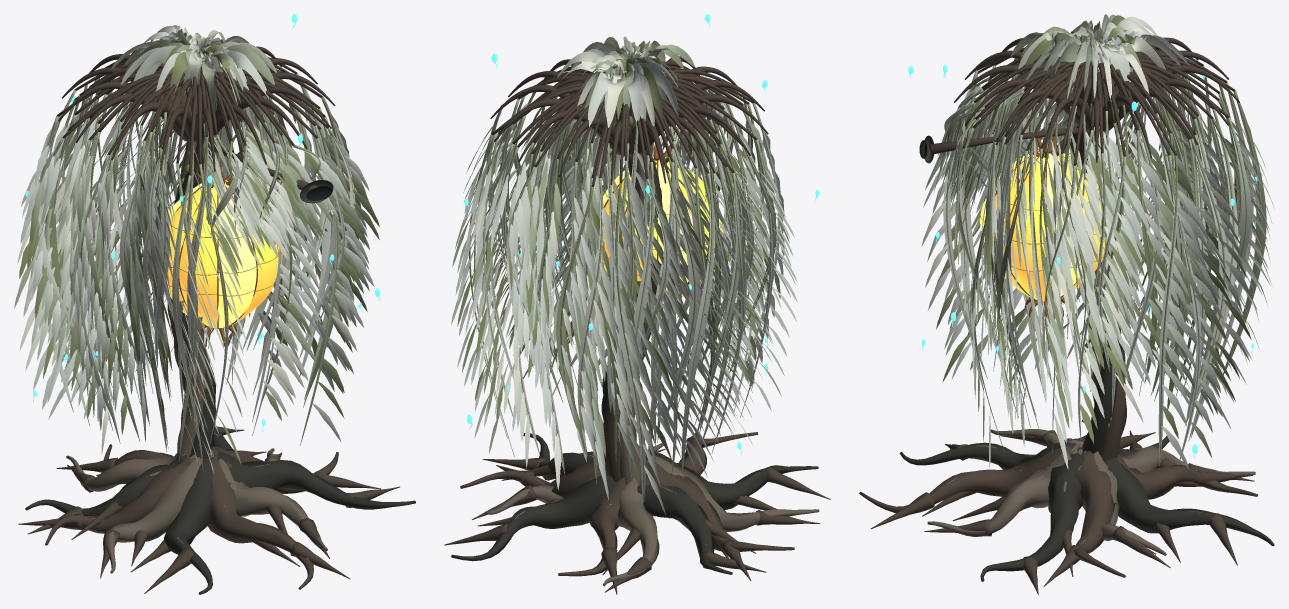
File: wispwillow.glb
3 views of the same model, side by side, from view 1: azimuth 30°, elevation 25°; view 2: azimuth 150°, elevation 25°; view 3: azimuth 270°, elevation 25° (orthographic). The views are drawn at different scales.
Visible parts, largest first — view 1: LEAFSET | Frond • pale silver, LEAFSET | Frond • shaded sage, LEAFSET | Frond • moon ivory, LEAFSET | Frond • old olive, LEAFSET | Frond • silver tips, STEM | Bark • peat umber, ROOT | Bark • peat umber, ROOT | Bark • deep fissures, ROOT | Bark • weathered ridges, BLOOM | Lantern • amber paper petals, BLOOM | Lantern • luminous petal folds, STEM | Bark • weathered ridges (+2 smaller); view 2: LEAFSET | Frond • pale silver, LEAFSET | Frond • shaded sage, LEAFSET | Frond • moon ivory, LEAFSET | Frond • silver tips, LEAFSET | Frond • old olive, STEM | Bark • peat umber, ROOT | Bark • peat umber, ROOT | Bark • deep fissures, ROOT | Bark • weathered ridges, STEM | Bark • weathered ridges, BLOOM | Lantern • amber paper petals, BLOOM | Lantern • luminous petal folds (+1 smaller); view 3: LEAFSET | Frond • shaded sage, LEAFSET | Frond • pale silver, LEAFSET | Frond • old olive, LEAFSET | Frond • silver tips, LEAFSET | Frond • moon ivory, STEM | Bark • peat umber, ROOT | Bark • peat umber, ROOT | Bark • deep fissures, ROOT | Bark • weathered ridges, BLOOM | Lantern • amber paper petals, STEM | Bark • deep fissures, BLOOM | Lantern • luminous petal folds (+2 smaller).
Boxes of the visible parts, x1,y1,x2,y2 form: LEAFSET | Frond • pale silver: (20,36,369,456); LEAFSET | Frond • shaded sage: (14,32,367,472); LEAFSET | Frond • moon ivory: (17,27,369,457); LEAFSET | Frond • old olive: (19,29,379,464); LEAFSET | Frond • silver tips: (22,25,374,473); STEM | Bark • peat umber: (57,39,335,401); ROOT | Bark • peat umber: (18,426,399,593); ROOT | Bark • deep fissures: (25,429,415,594); ROOT | Bark • weathered ridges: (30,432,400,590); BLOOM | Lantern • amber paper petals: (166,180,282,328); BLOOM | Lantern • luminous petal folds: (161,178,256,328); STEM | Bark • weathered ridges: (176,105,205,458); LEAFSET | Frond • pale silver: (451,36,797,506); LEAFSET | Frond • shaded sage: (452,37,790,484); LEAFSET | Frond • moon ivory: (465,40,796,515); LEAFSET | Frond • silver tips: (455,46,797,488); LEAFSET | Frond • old olive: (457,41,789,508); STEM | Bark • peat umber: (490,56,768,481); ROOT | Bark • peat umber: (444,432,830,594); ROOT | Bark • deep fissures: (451,433,818,574); ROOT | Bark • weathered ridges: (458,433,819,586); STEM | Bark • weathered ridges: (620,103,650,485); BLOOM | Lantern • amber paper petals: (603,155,722,299); BLOOM | Lantern • luminous petal folds: (603,161,694,303); LEAFSET | Frond • shaded sage: (925,19,1266,465); LEAFSET | Frond • pale silver: (923,14,1272,469); LEAFSET | Frond • old olive: (935,15,1269,465); LEAFSET | Frond • silver tips: (941,14,1274,461); LEAFSET | Frond • moon ivory: (921,16,1271,434); STEM | Bark • peat umber: (954,25,1239,461); ROOT | Bark • peat umber: (859,419,1257,594); ROOT | Bark • deep fissures: (900,436,1274,581); ROOT | Bark • weathered ridges: (865,429,1270,575); BLOOM | Lantern • amber paper petals: (984,147,1104,301); STEM | Bark • deep fissures: (1070,86,1122,453); BLOOM | Lantern • luminous petal folds: (980,150,1081,300).
Size of the model in its own units: 2.46 by 3.32 by 2.6.
